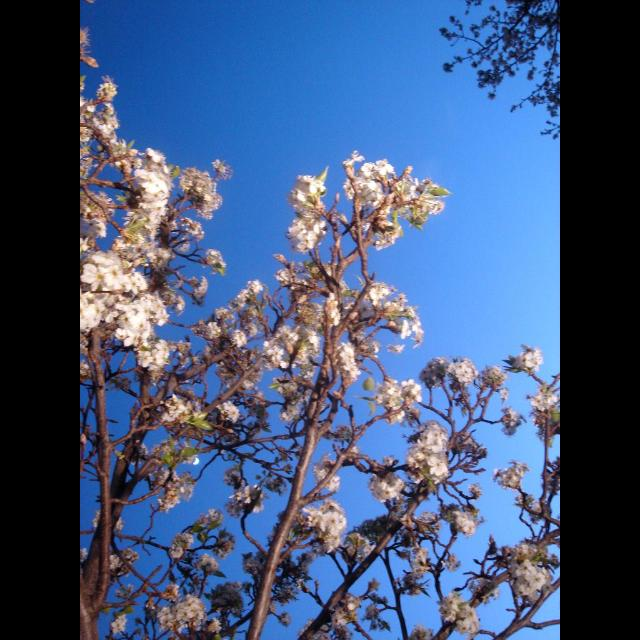Flower: (80, 21, 560, 639), (304, 504, 350, 560)
